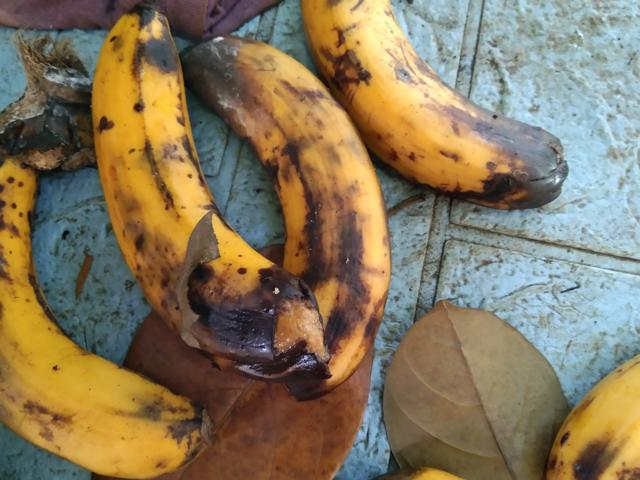overripe: (0, 128, 200, 479), (549, 332, 639, 479)
rotten: (69, 0, 329, 385), (195, 28, 395, 421), (298, 0, 577, 213)
